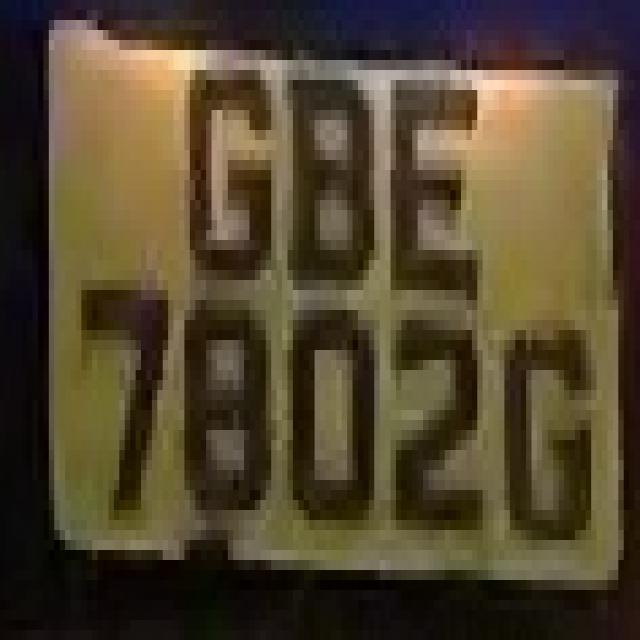0: (271, 290, 391, 550)
2: (390, 280, 499, 580)
7: (54, 240, 179, 530)
8: (174, 280, 276, 560)
B: (277, 50, 374, 320)
E: (380, 60, 488, 300)
G: (494, 310, 596, 570), (174, 40, 271, 310)
